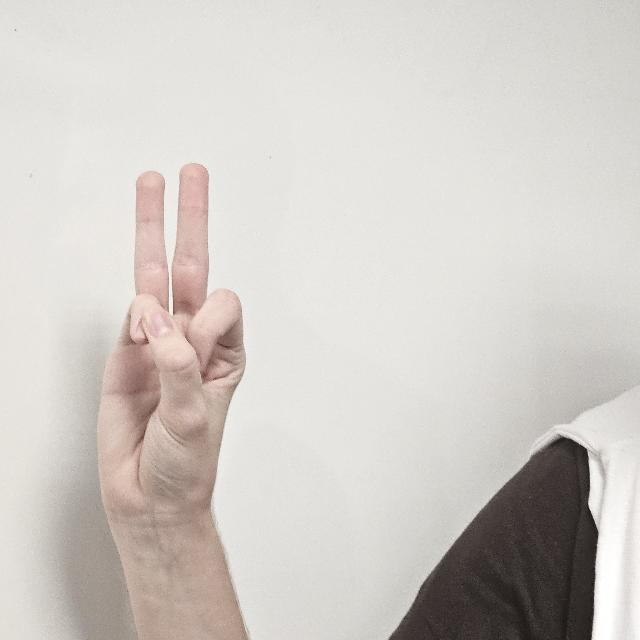R: (100, 162, 246, 534)
